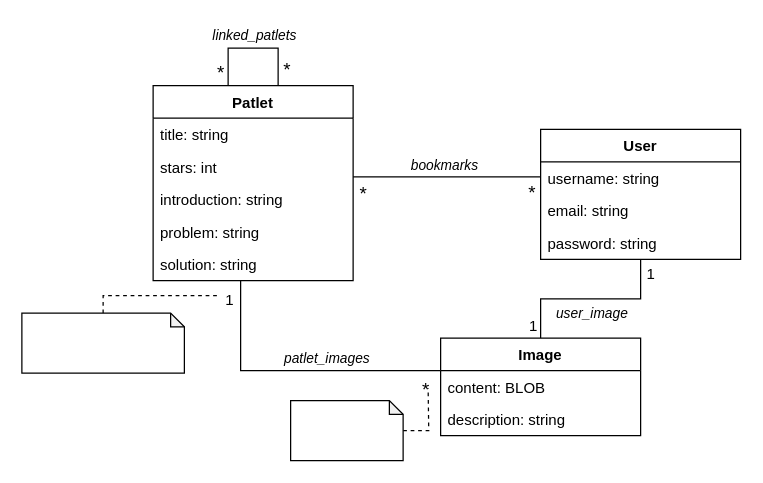
This 763x483 diagram has some shape labels left out. The shapes that lost their labels are listed below. From the top down, each one's centre as x and y in pixels, then its label:
At point 102,342: "Is there going to be duplicated images in different patlets?".
At point 346,430: "How many images per patlet?".
